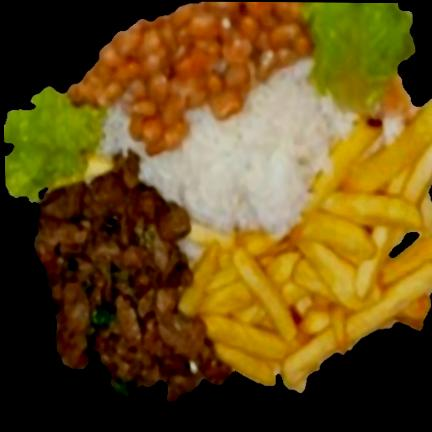beans: (69, 1, 310, 153)
meat: (33, 152, 231, 401)
potato: (178, 104, 431, 391)
rice: (100, 60, 353, 234)
salad: (300, 2, 413, 113)
